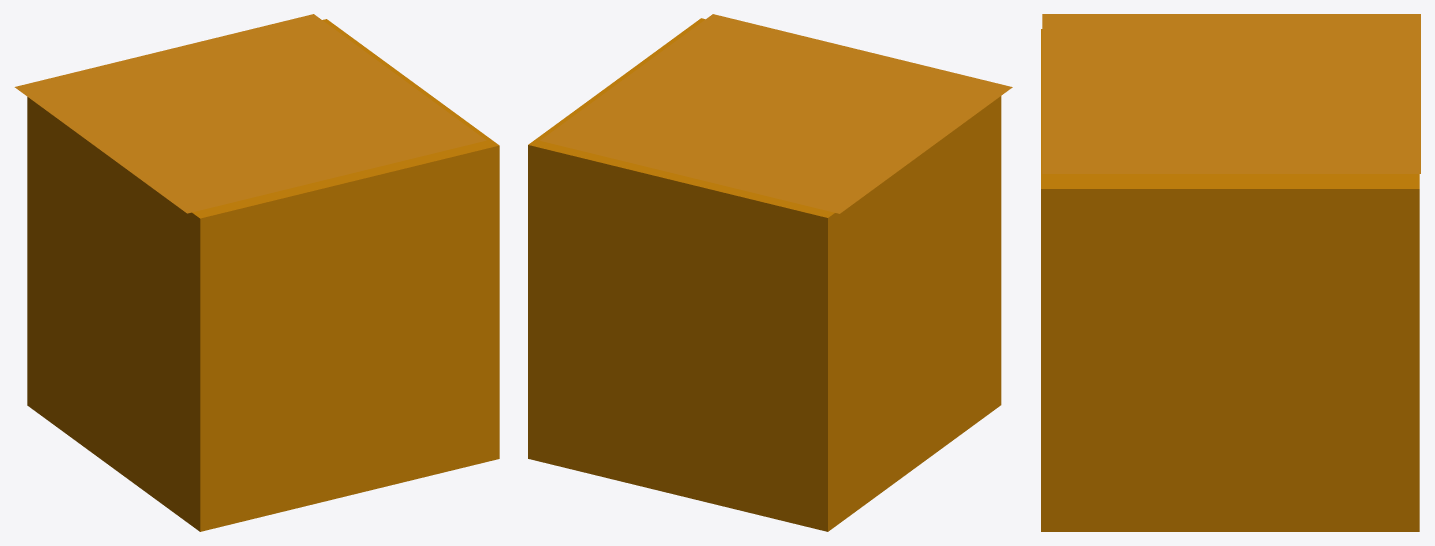
Rendered from foodbox.fbx.
The picture shows the model from 3 angles, left to right: view 1: azimuth 30°, elevation 25°; view 2: azimuth 150°, elevation 25°; view 3: azimuth 270°, elevation 25°; orthographic projection. The views are drawn at different scales.
Visible parts, largest first — view 1: Cube.001, Plane; view 2: Cube.001, Plane; view 3: Cube.001, Plane.
Boxes of the visible parts, x1,y1,x2,y2 form: Cube.001: (27, 19, 499, 531); Plane: (14, 14, 486, 213); Cube.001: (528, 18, 1001, 531); Plane: (540, 14, 1012, 213); Cube.001: (1041, 29, 1419, 531); Plane: (1042, 14, 1420, 173).
Size of the model in its own units: 312 by 307 by 301.
